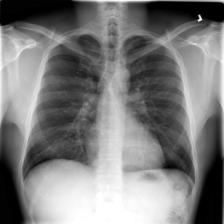normal: (19, 30, 200, 198)
